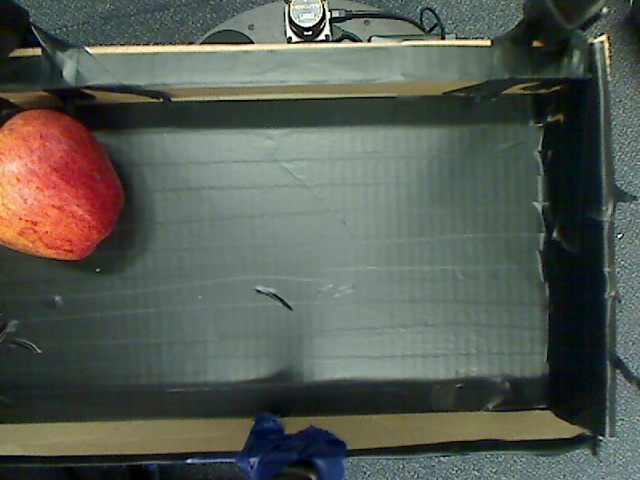apple: (1, 98, 138, 271)
